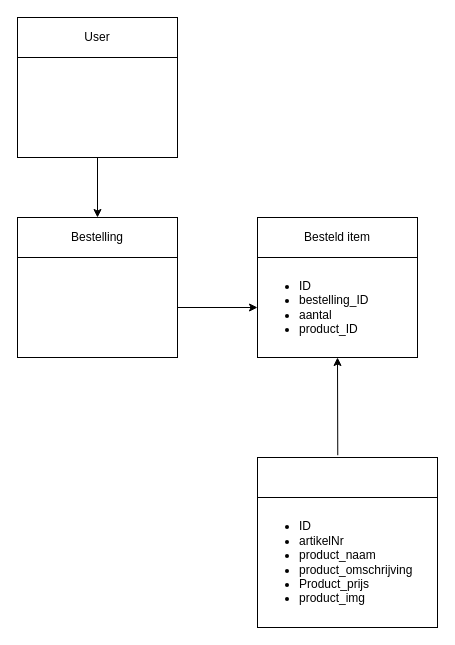
Image size: 455x645. Some labels were removed from this diagram. The shapes that lost their labels are listed below. From the top down, each one's centre as x and y in pixels, then its label:
(97,107): ID user_name user_password user_email
(97,307): ID datum
(347,477): product
